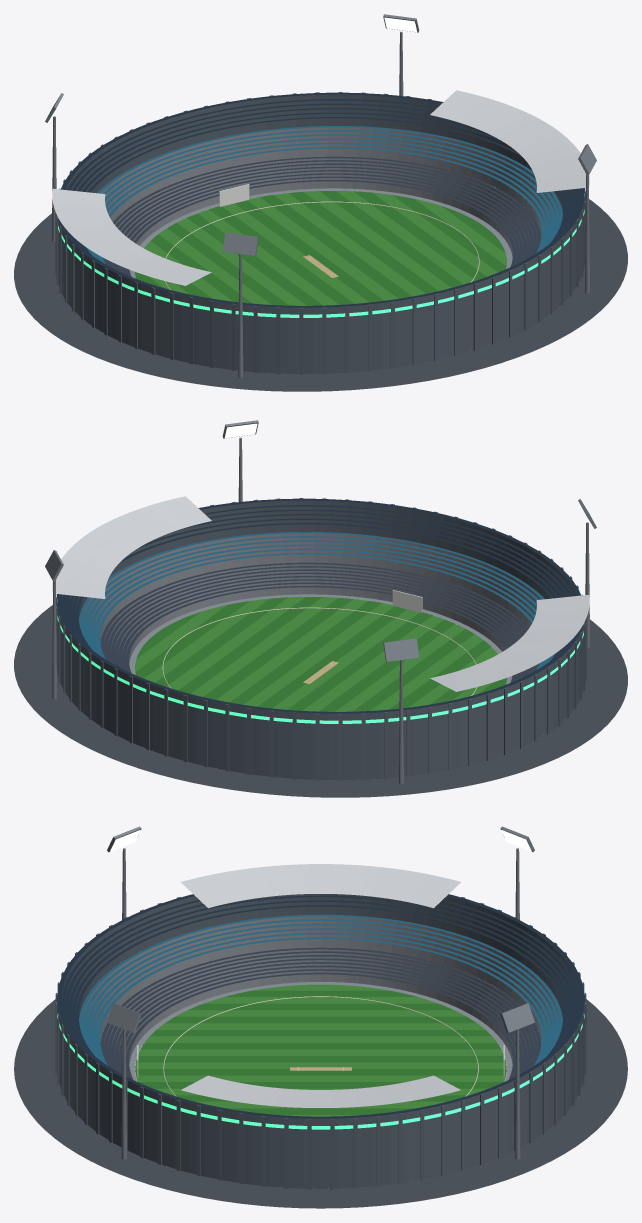
Rendered from stadium.glb.
The picture shows the model from 3 angles, top to bottom: view 1: azimuth 30°, elevation 25°; view 2: azimuth 150°, elevation 25°; view 3: azimuth 270°, elevation 25°; orthographic projection. The views are drawn at different scales.
Visible parts, largest first — view 1: StandUpper, Outfield, Concourse, StandMiddle, StandLower, Fins, RoofEast, RoofWest, Ribbon, Apron, TowerHead2, Tower2 (+2 smaller); view 2: StandUpper, Outfield, Concourse, StandMiddle, StandLower, Fins, RoofEast, RoofWest, Ribbon, Apron, TowerHead1, Tower1 (+2 smaller); view 3: StandUpper, Outfield, Concourse, StandMiddle, StandLower, Fins, RoofWest, RoofEast, Apron, Ribbon, TowerHead0, TowerHead3 (+3 smaller).
Boxes of the visible parts, <box> form: StandUpper: <box>57,92,584,374</box>; Outfield: <box>135,191,506,305</box>; Concourse: <box>14,199,627,391</box>; StandMiddle: <box>86,126,562,264</box>; StandLower: <box>103,156,541,276</box>; Fins: <box>55,92,585,374</box>; RoofEast: <box>430,90,589,192</box>; RoofWest: <box>52,188,211,285</box>; Ribbon: <box>58,193,584,317</box>; Apron: <box>129,188,512,278</box>; TowerHead2: <box>222,232,258,256</box>; Tower2: <box>238,254,243,378</box>; StandUpper: <box>57,498,584,780</box>; Outfield: <box>135,597,506,711</box>; Concourse: <box>14,605,627,797</box>; StandMiddle: <box>79,532,555,670</box>; StandLower: <box>100,562,538,682</box>; Fins: <box>56,498,586,780</box>; RoofEast: <box>52,496,211,598</box>; RoofWest: <box>430,594,589,691</box>; Ribbon: <box>57,599,583,723</box>; Apron: <box>129,594,512,684</box>; TowerHead1: <box>383,638,419,662</box>; Tower1: <box>398,660,403,784</box>; StandUpper: <box>57,894,584,1188</box>; Outfield: <box>135,984,506,1116</box>; Concourse: <box>14,999,627,1208</box>; StandMiddle: <box>79,914,562,1065</box>; StandLower: <box>100,947,541,1079</box>; Fins: <box>55,897,586,1189</box>; RoofWest: <box>181,864,460,908</box>; RoofEast: <box>181,1075,460,1107</box>; Apron: <box>129,982,512,1081</box>; Ribbon: <box>56,1002,585,1129</box>; TowerHead0: <box>500,1003,534,1033</box>; TowerHead3: <box>107,1003,141,1033</box>.
Bounding box in the file's own units: 256 × 63.81 × 238.
